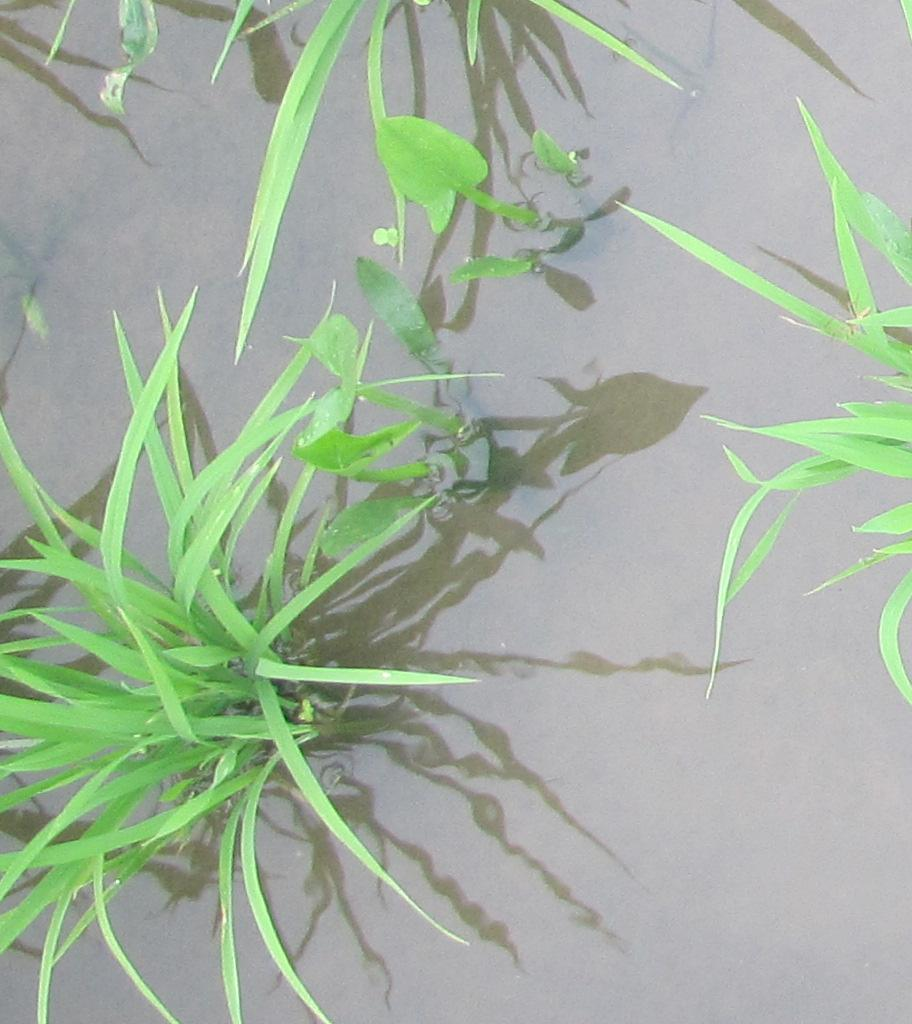Weed: (298, 317, 440, 567), (370, 108, 501, 241)
